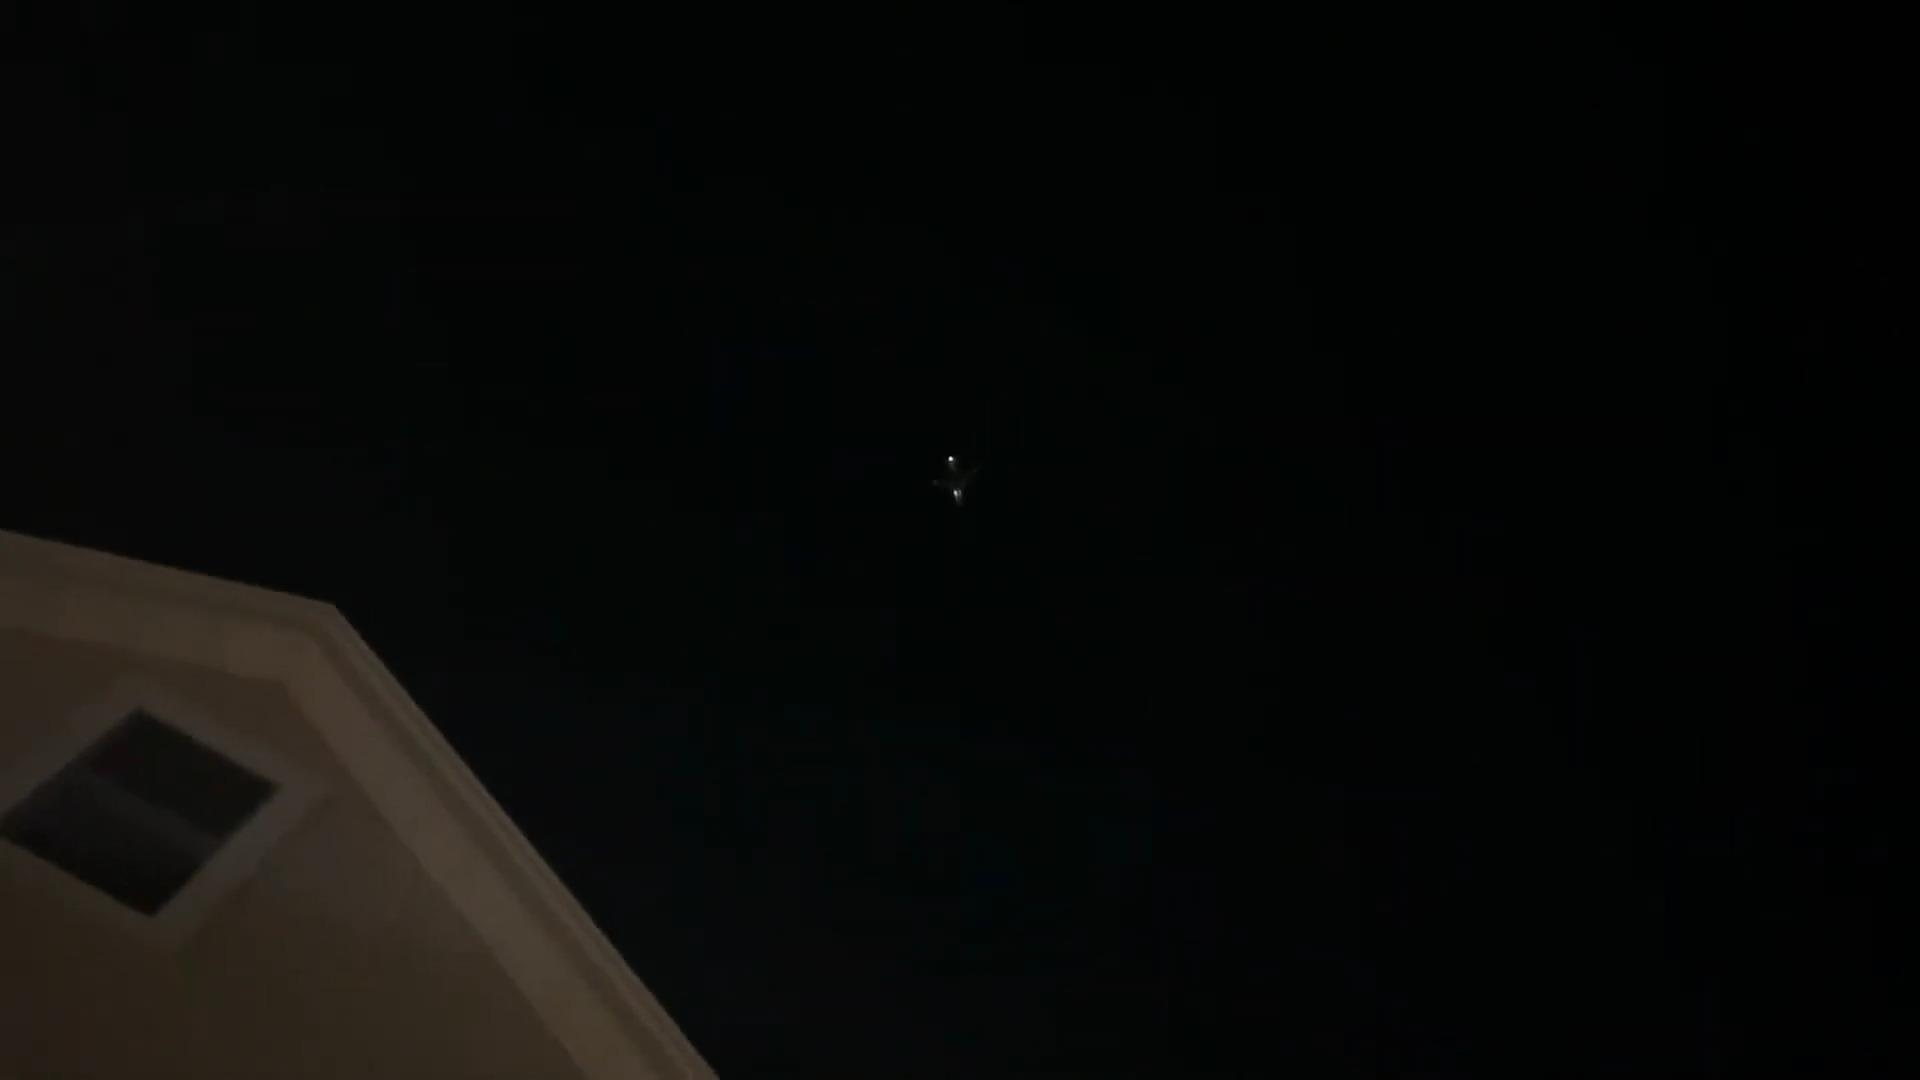Plane: (884, 438, 1005, 526)
